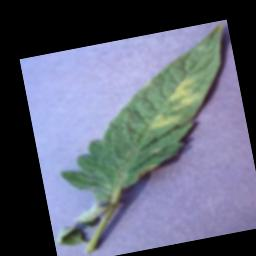Leaf_Mold: (141, 74, 211, 133)
